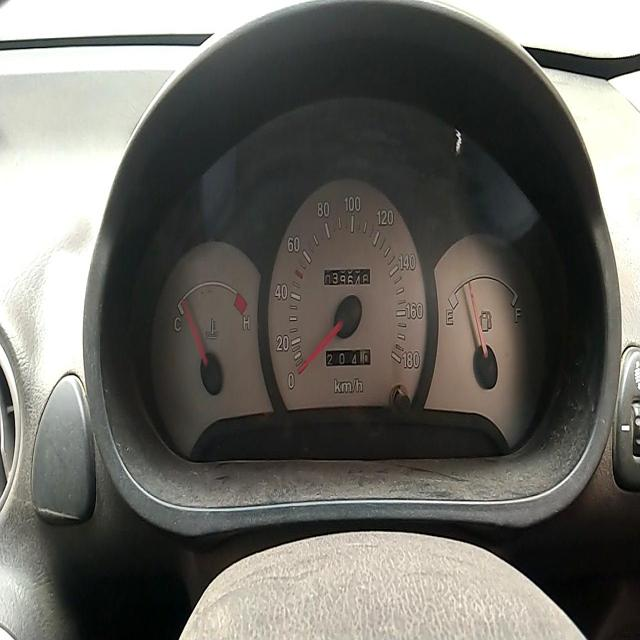odometer: (324, 269, 370, 285)
